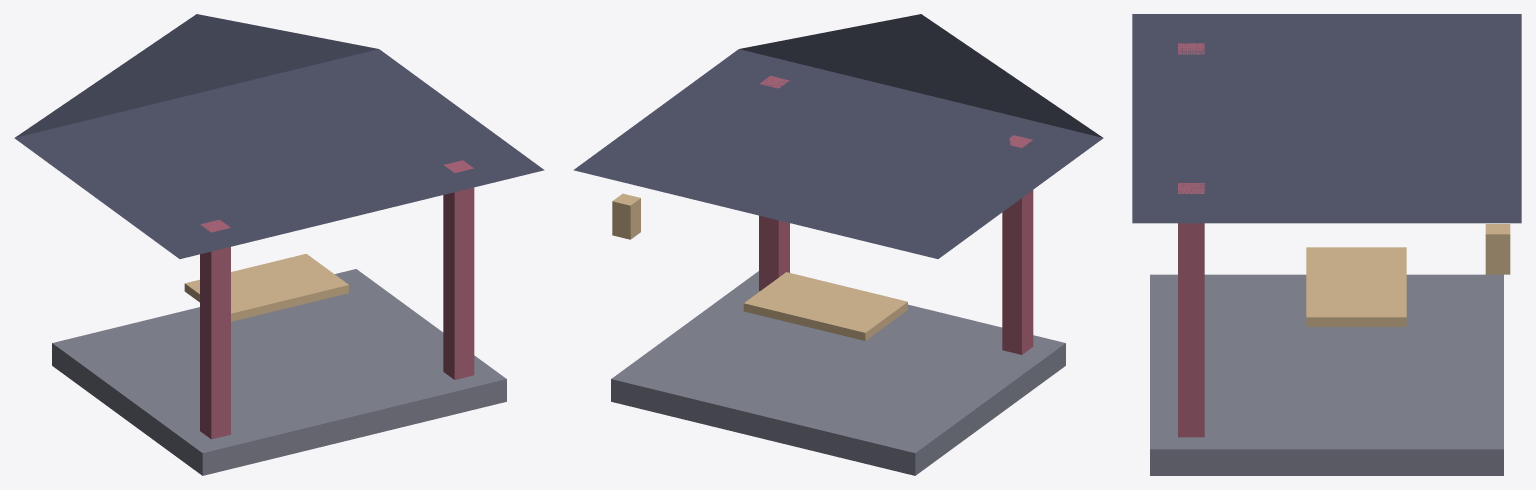
Rendered from dojo_offering_pavilion_lod1.glb.
3 views of the same model, side by side, from view 1: azimuth 30°, elevation 25°; view 2: azimuth 150°, elevation 25°; view 3: azimuth 270°, elevation 25° (orthographic). The views are drawn at different scales.
Parts seen in each view (by area): view 1: dojo_offering_pavilion_003, dojo_offering_pavilion_000, dojo_offering_pavilion_002, dojo_offering_pavilion_001, dojo_offering_pavilion_004; view 2: dojo_offering_pavilion_003, dojo_offering_pavilion_000, dojo_offering_pavilion_004, dojo_offering_pavilion_001, dojo_offering_pavilion_002, dojo_offering_pavilion_005; view 3: dojo_offering_pavilion_003, dojo_offering_pavilion_000, dojo_offering_pavilion_004, dojo_offering_pavilion_002, dojo_offering_pavilion_005.
Boxes of the visible parts, x1=… form: dojo_offering_pavilion_003: x1=14, y1=14, x2=544, y2=258; dojo_offering_pavilion_000: x1=52, y1=269, x2=506, y2=475; dojo_offering_pavilion_002: x1=443, y1=160, x2=474, y2=379; dojo_offering_pavilion_001: x1=200, y1=219, x2=230, y2=439; dojo_offering_pavilion_004: x1=184, y1=253, x2=348, y2=321; dojo_offering_pavilion_003: x1=573, y1=14, x2=1103, y2=258; dojo_offering_pavilion_000: x1=611, y1=271, x2=1065, y2=475; dojo_offering_pavilion_004: x1=743, y1=272, x2=907, y2=340; dojo_offering_pavilion_001: x1=1002, y1=135, x2=1033, y2=354; dojo_offering_pavilion_002: x1=759, y1=76, x2=789, y2=290; dojo_offering_pavilion_005: x1=612, y1=193, x2=640, y2=239; dojo_offering_pavilion_003: x1=1132, y1=14, x2=1521, y2=223; dojo_offering_pavilion_000: x1=1150, y1=274, x2=1503, y2=475; dojo_offering_pavilion_004: x1=1306, y1=247, x2=1406, y2=326; dojo_offering_pavilion_002: x1=1178, y1=183, x2=1204, y2=437; dojo_offering_pavilion_005: x1=1485, y1=224, x2=1510, y2=274.
Size of the model in its own units: 8.4 by 6.8 by 6.6.
